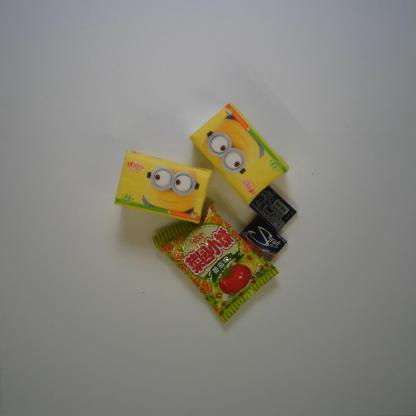Gum: (249, 184, 298, 233), (239, 214, 288, 262)
Puffed Food: (151, 200, 281, 326)
Tissue: (188, 101, 290, 208), (113, 150, 213, 224)
